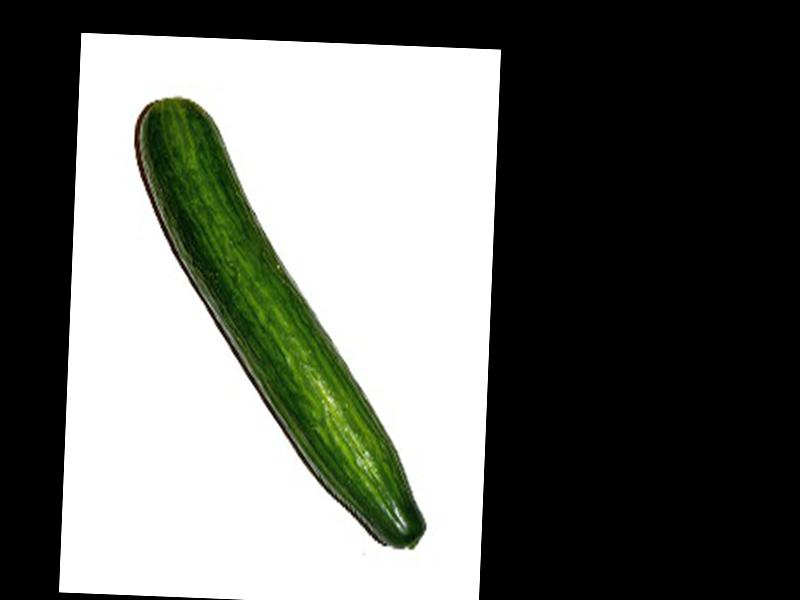Cucumber: (120, 96, 442, 549)
